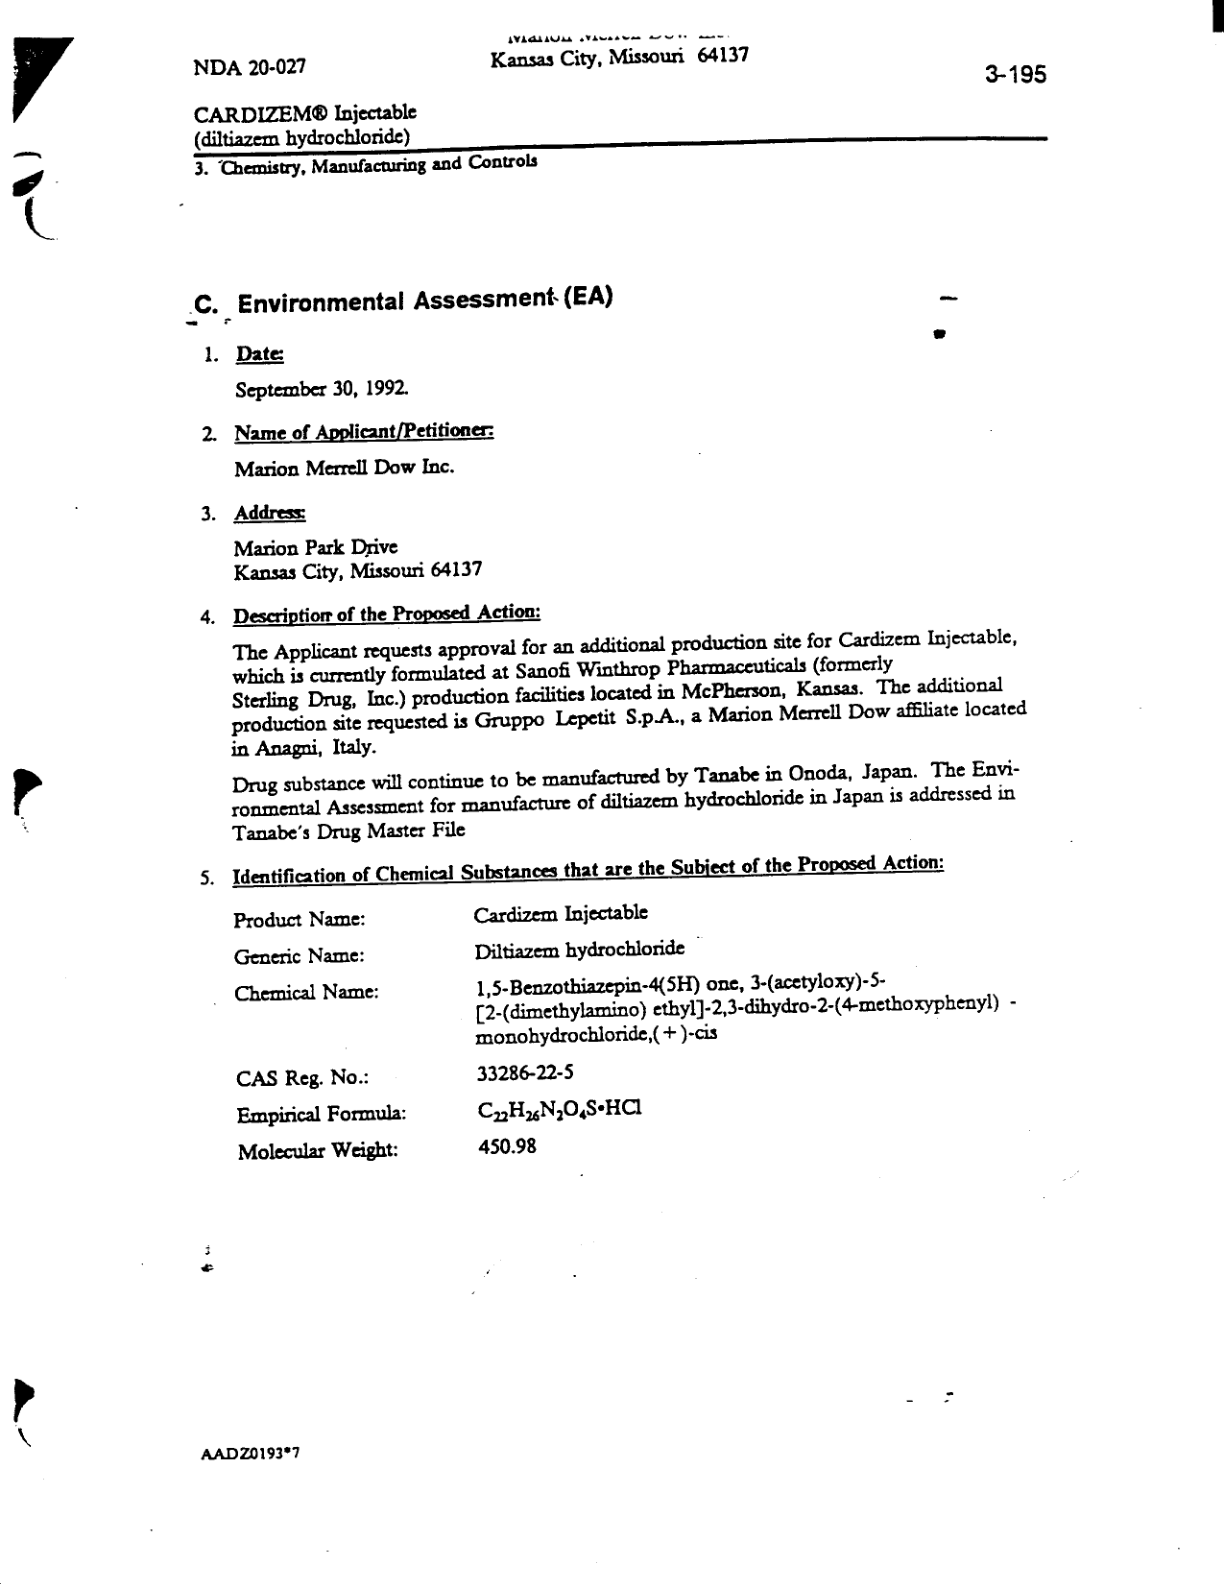nolines: (229, 904, 1021, 1162)
